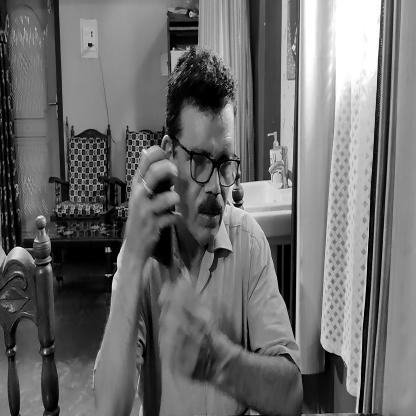Normal: (161, 46, 241, 261)
